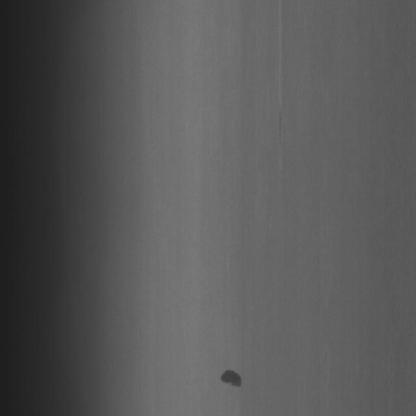oil_spot: (217, 346, 245, 398)
